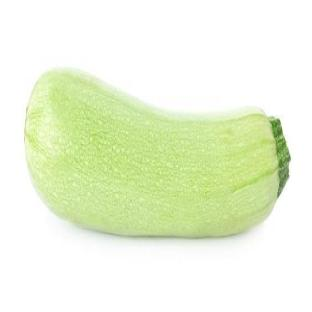Zucchini: (25, 70, 290, 236)
